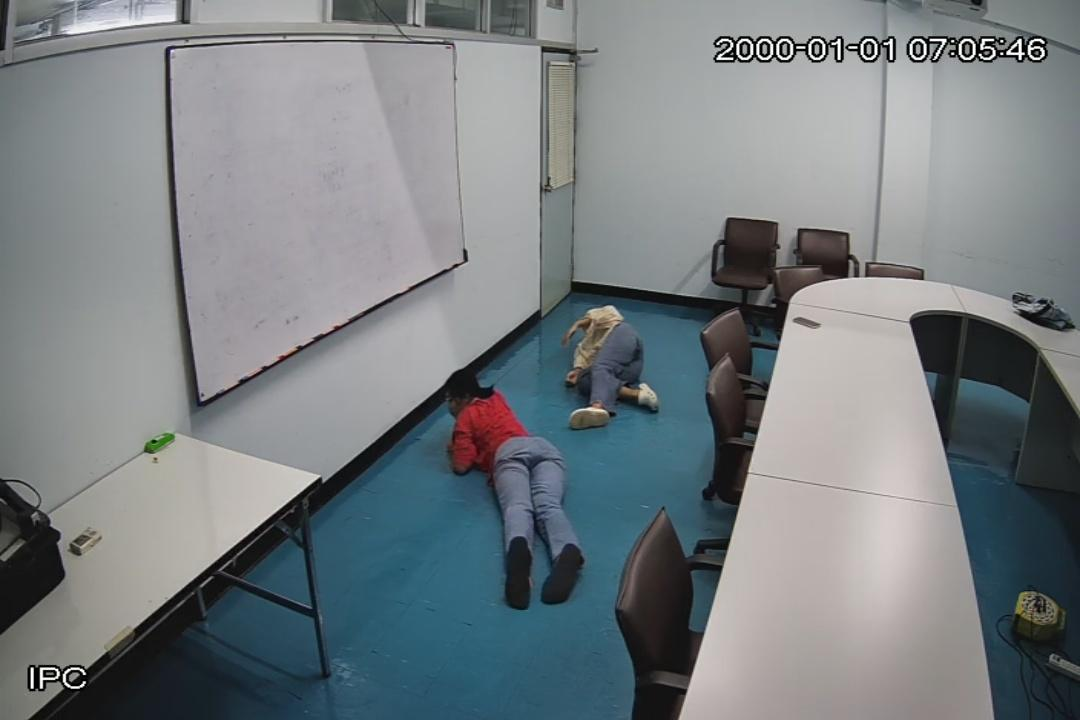fall: (450, 371, 571, 606), (565, 305, 650, 432)
